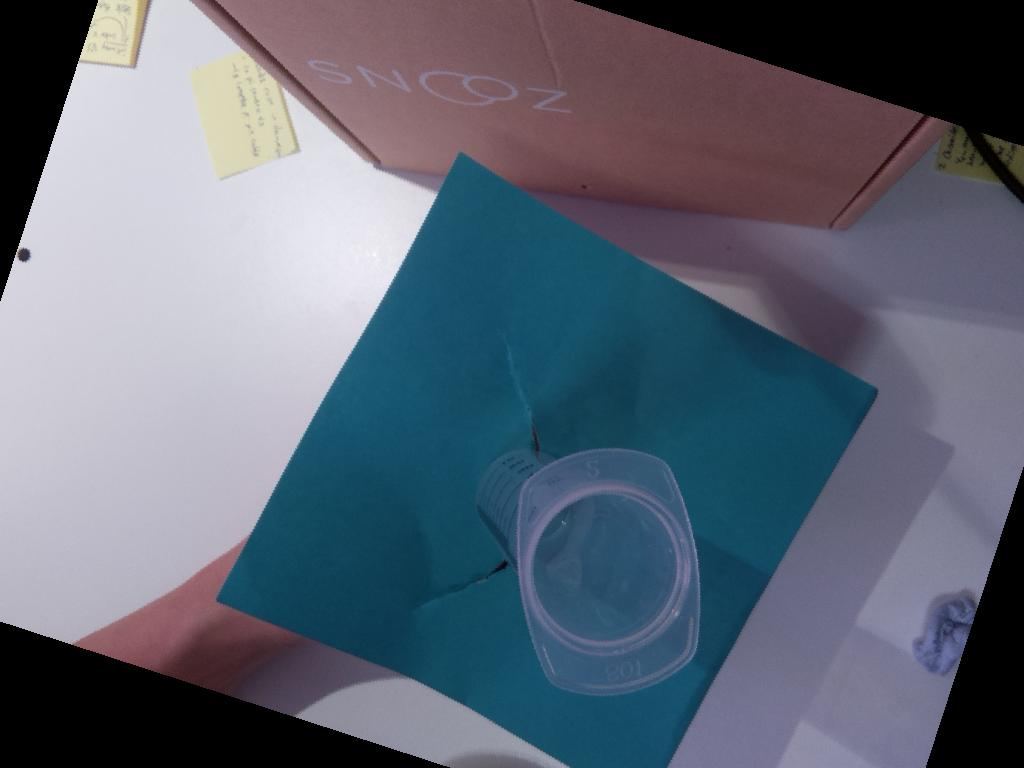clean: (513, 446, 703, 696)
